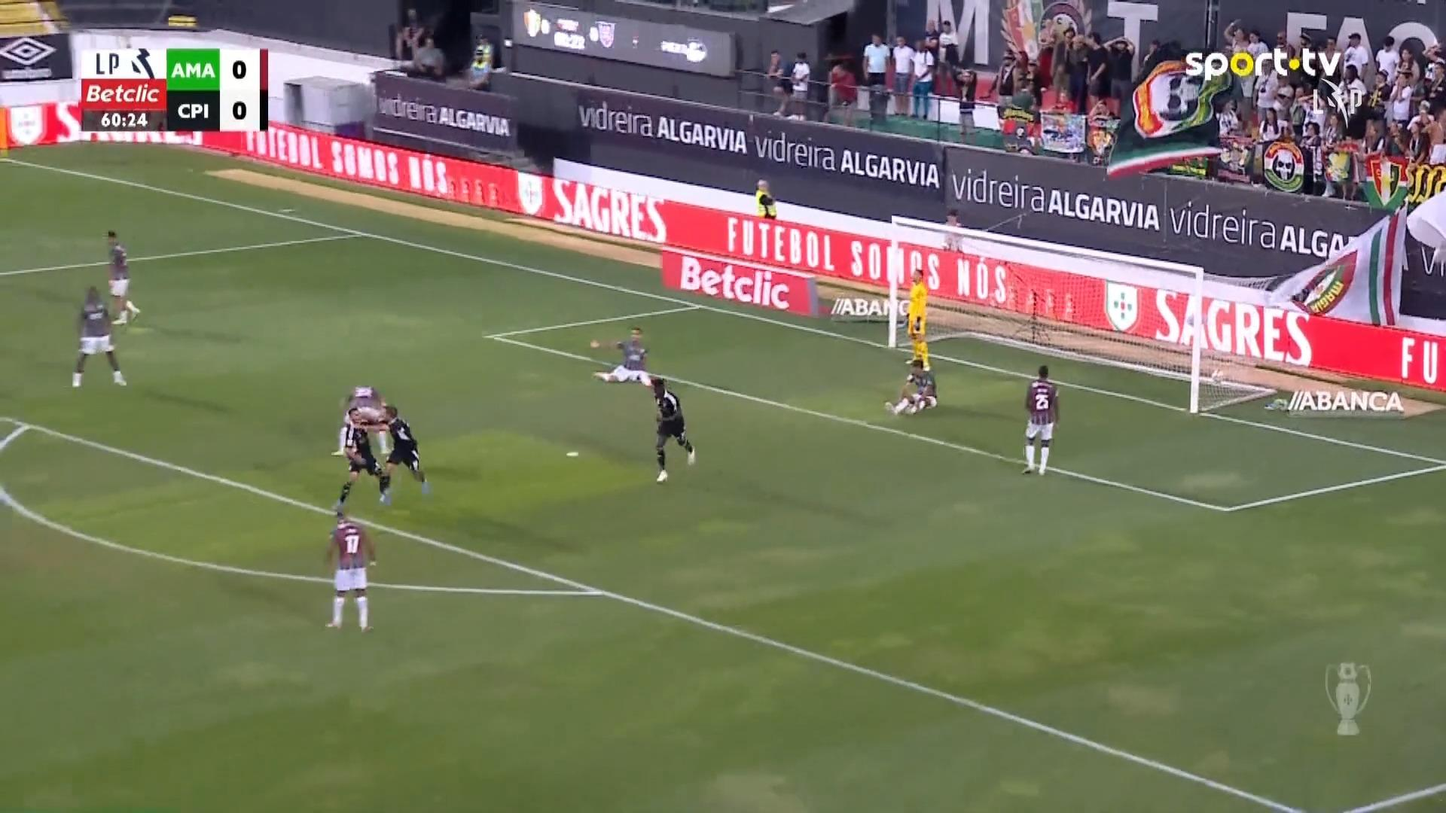goalkeeper: (904, 266, 928, 339)
player: (332, 385, 392, 512), (323, 503, 377, 632), (71, 285, 127, 388), (377, 403, 429, 504), (649, 376, 696, 483), (1020, 364, 1059, 475), (589, 325, 653, 385), (104, 229, 141, 325), (883, 357, 938, 416), (904, 324, 930, 370)
